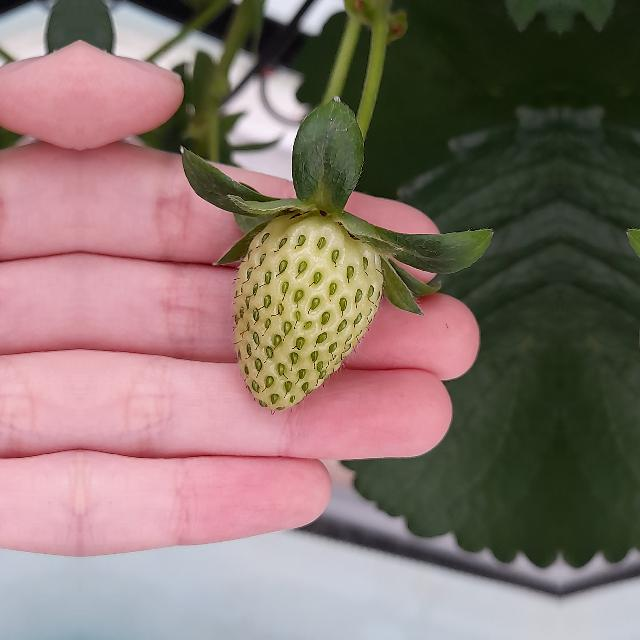Health_25: (231, 213, 383, 411)
